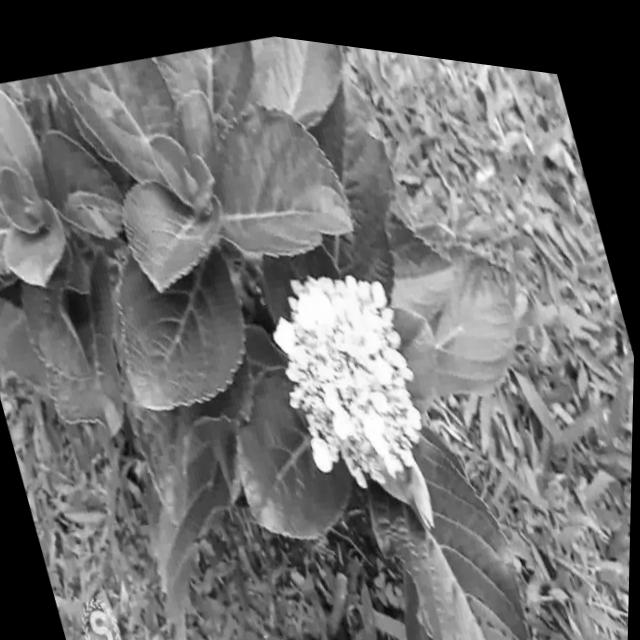Flower: (253, 227, 451, 503)
